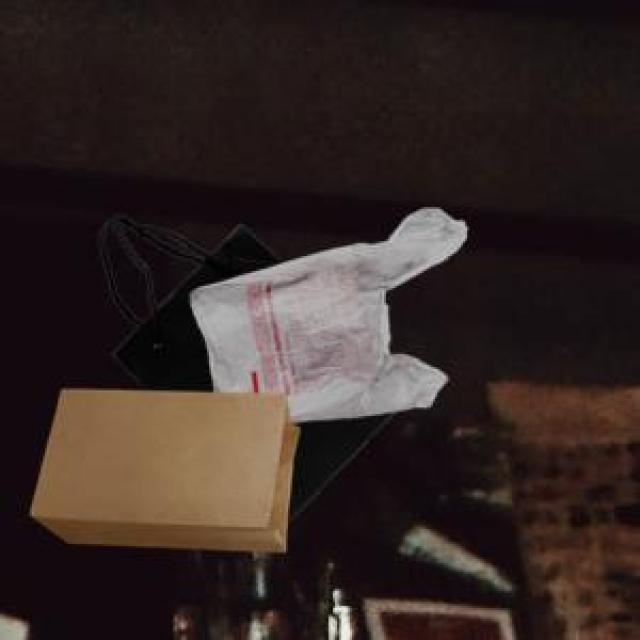paper: (96, 211, 389, 516), (26, 386, 294, 548)
